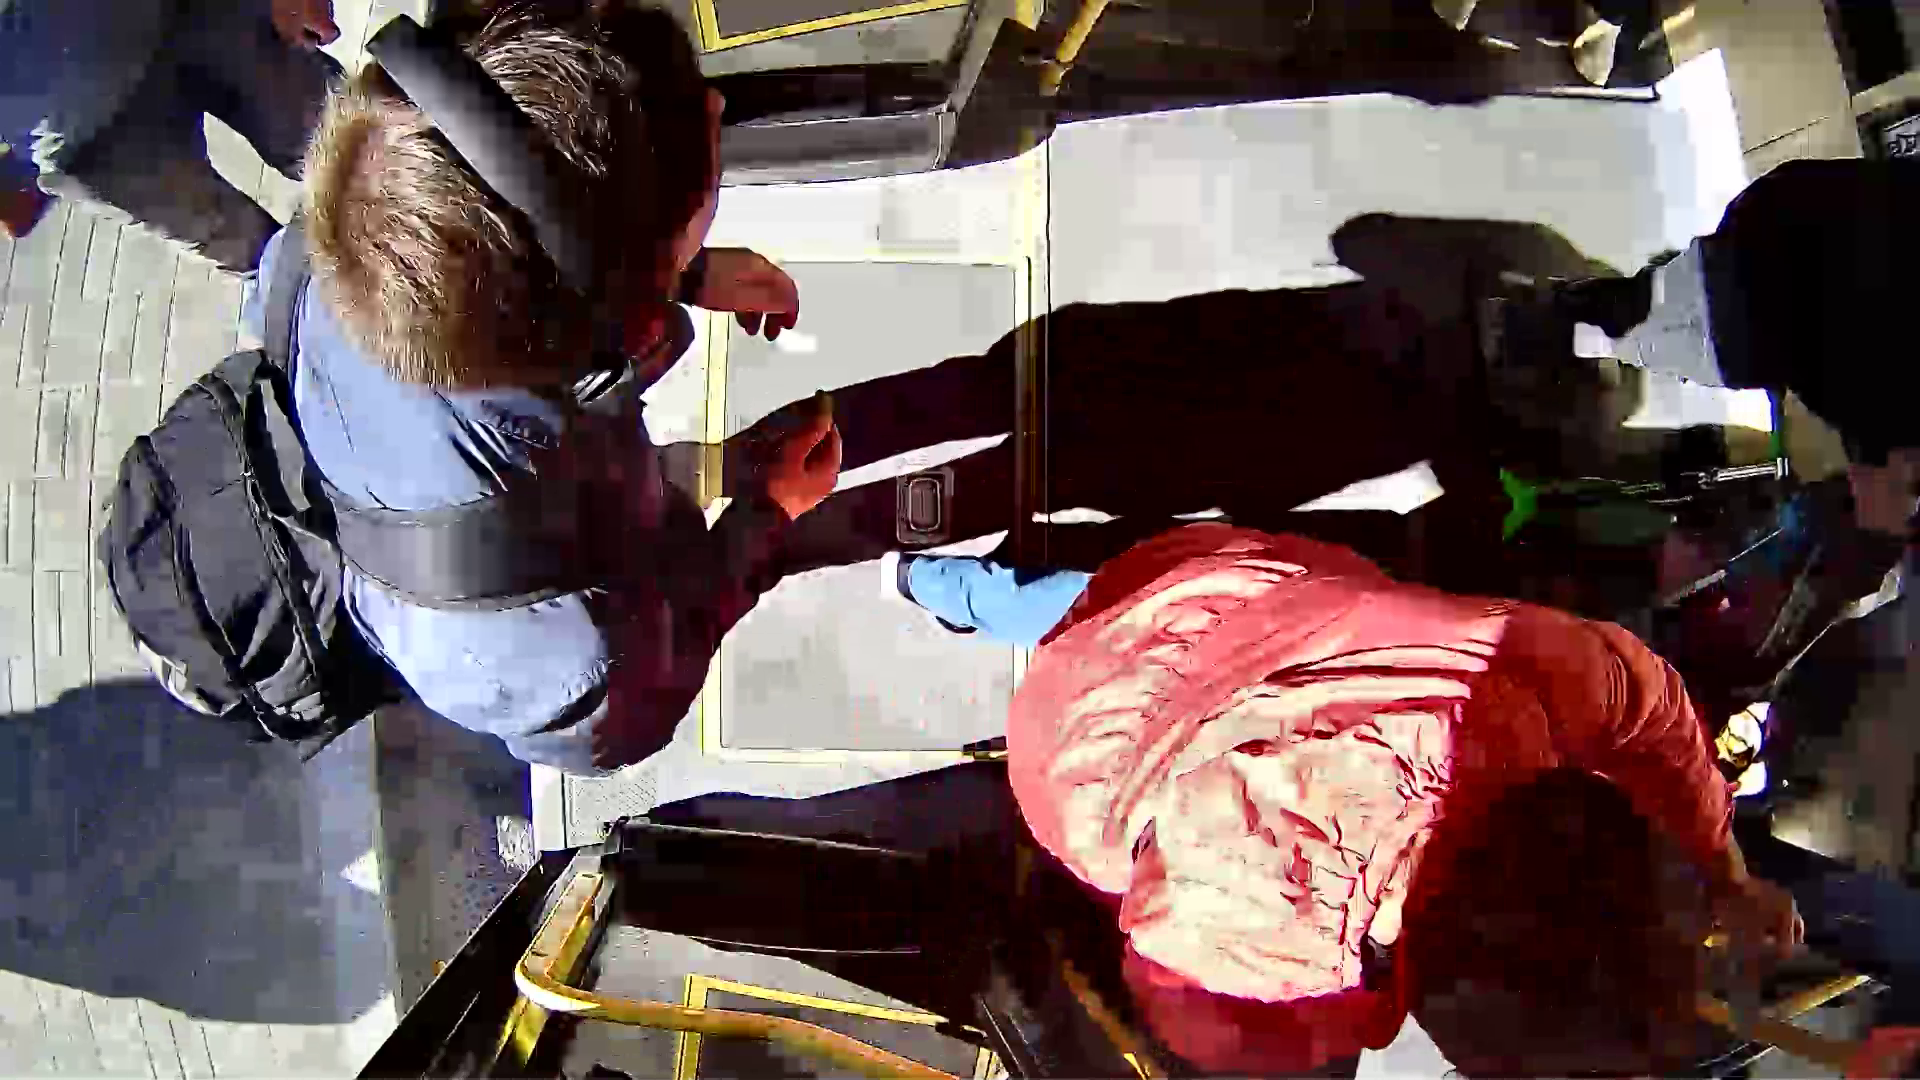person: (136, 13, 939, 723), (1073, 432, 1828, 1080)
